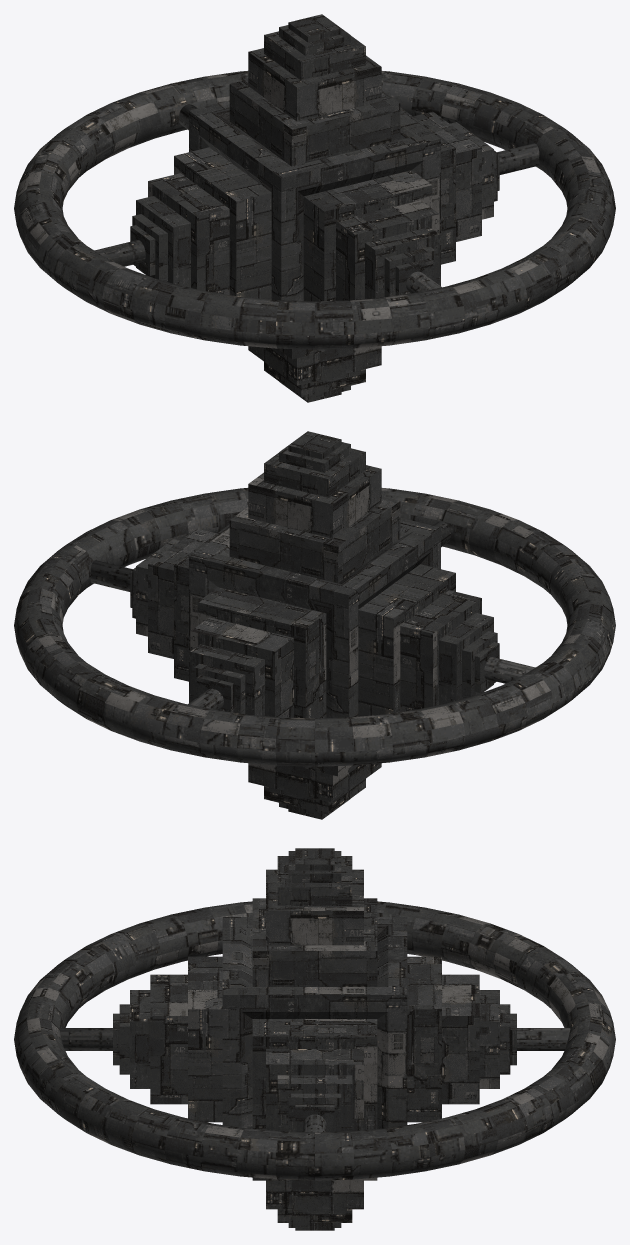
The model's file is uap.glb.
3 renders of one model, top to bottom at view 1: azimuth 30°, elevation 25°; view 2: azimuth 150°, elevation 25°; view 3: azimuth 270°, elevation 25°, orthographic.
Parts seen in each view (by area): view 1: Cube, Torus.001; view 2: Cube, Torus.001; view 3: Cube, Torus.001.
Part boxes in pixels (box(x1,y1,x2,y2)): Cube: box(130, 14, 499, 402); Torus.001: box(14, 71, 615, 349); Cube: box(130, 431, 499, 819); Torus.001: box(14, 488, 615, 766); Cube: box(113, 848, 516, 1230); Torus.001: box(14, 901, 615, 1180).
Size of the model in its own units: 6.53 by 4.38 by 6.53.
Materials: 2 (2 with a texture image).
